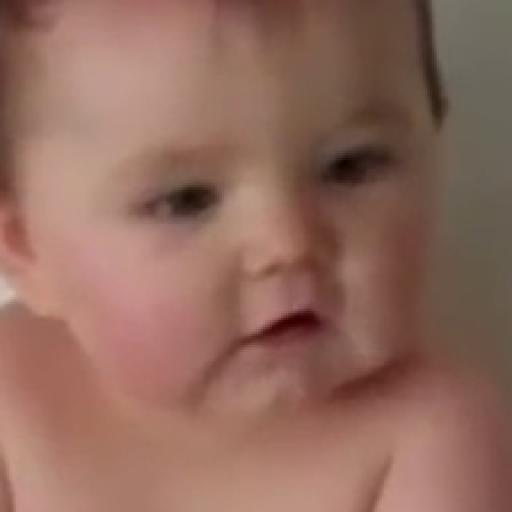Autism: (23, 10, 457, 464)
